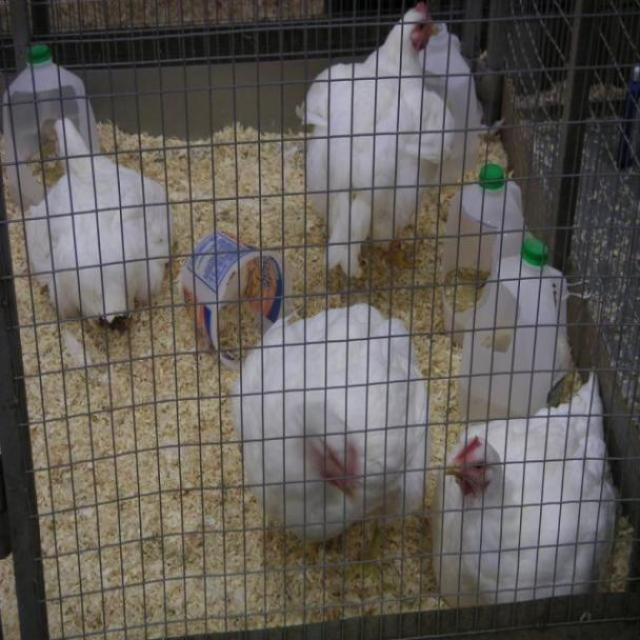Chicken: (229, 304, 440, 593), (294, 13, 493, 295), (431, 369, 626, 620), (26, 112, 181, 334)
